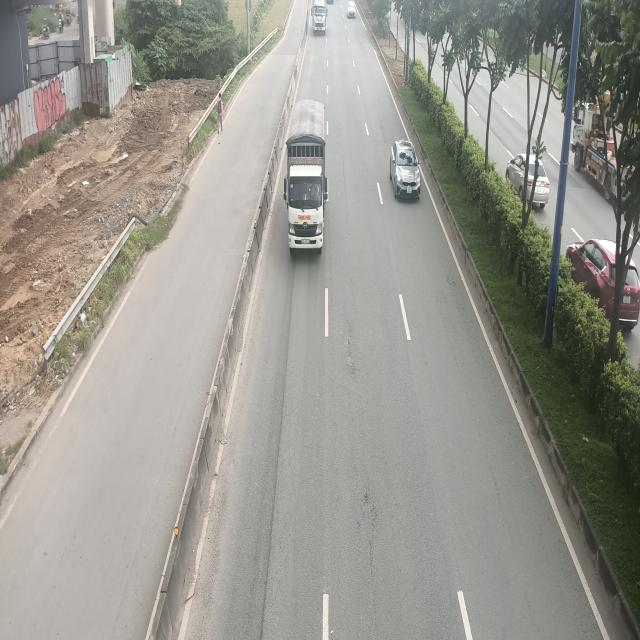car: (389, 140, 420, 200)
truck: (284, 103, 330, 256)
